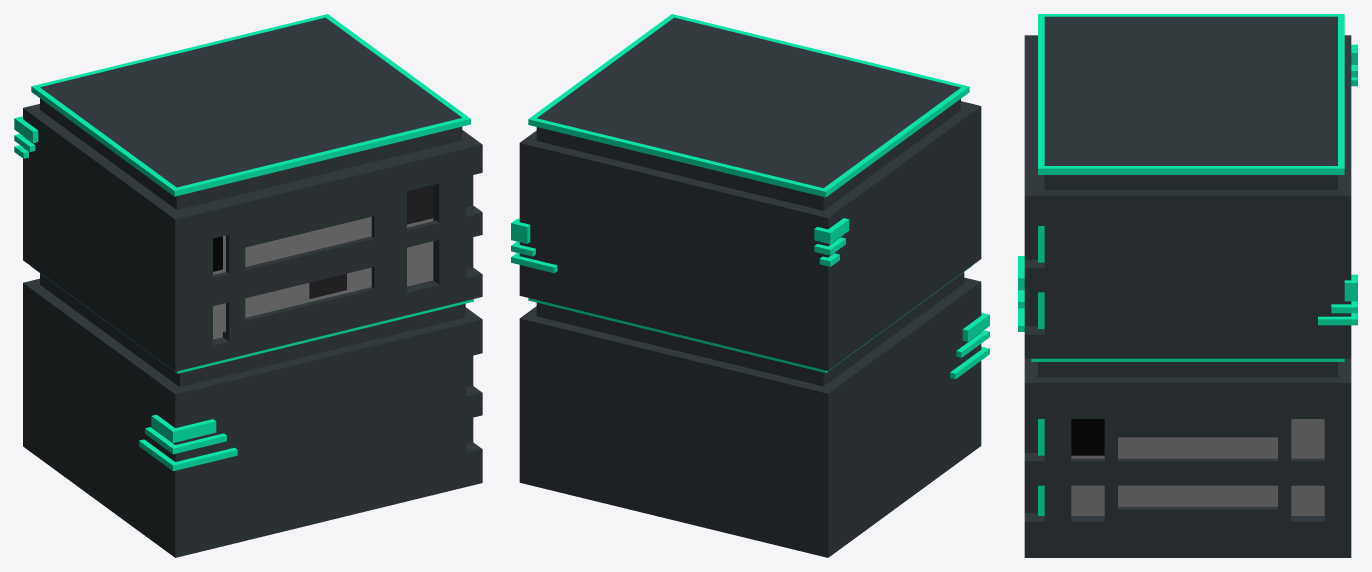
Rendered from Building010(3).obj.
3 views of the same model, side by side, from view 1: azimuth 30°, elevation 25°; view 2: azimuth 150°, elevation 25°; view 3: azimuth 270°, elevation 25° (orthographic). The views are drawn at different scales.
Size of the model in its own units: 5.9 by 6.4 by 5.1.
1 material, 1 textured.
